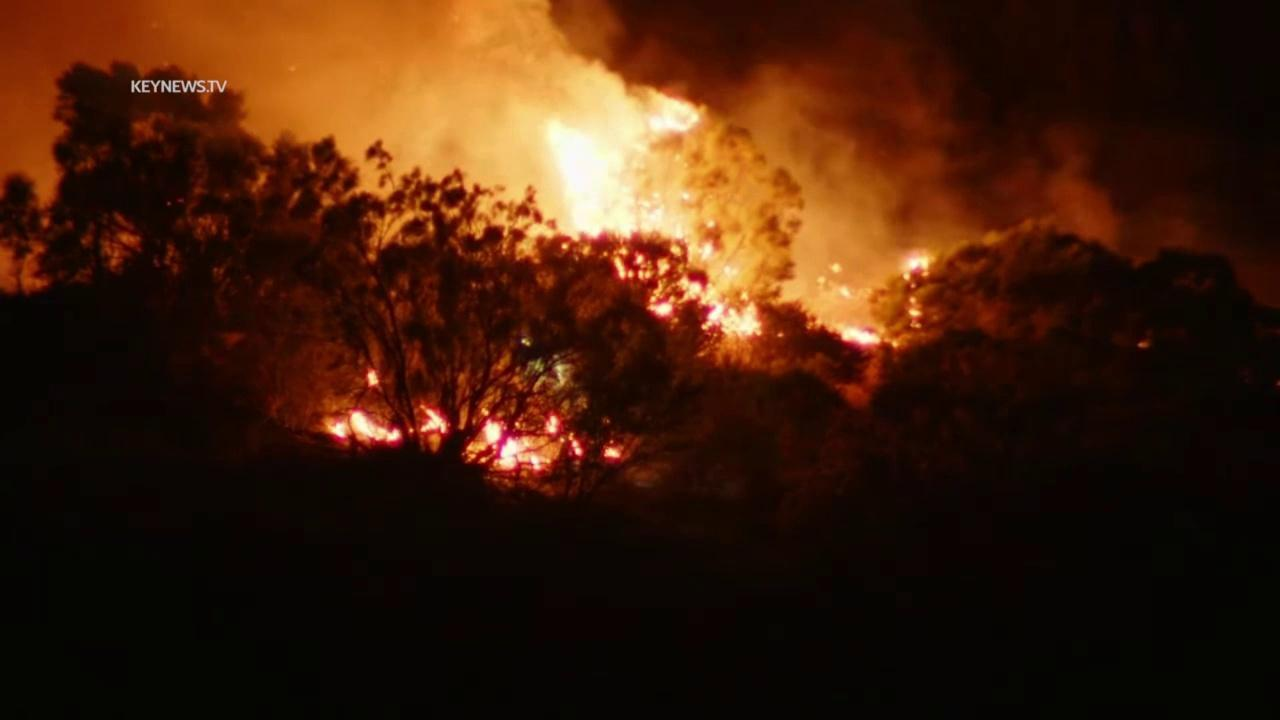fire: (543, 98, 770, 341), (480, 415, 556, 476), (340, 405, 407, 449), (899, 252, 932, 332), (414, 403, 450, 435), (836, 328, 884, 350), (601, 435, 629, 461), (362, 367, 388, 394), (325, 420, 352, 443), (542, 411, 566, 435), (567, 429, 586, 459)
smoke: (0, 0, 1280, 331)
